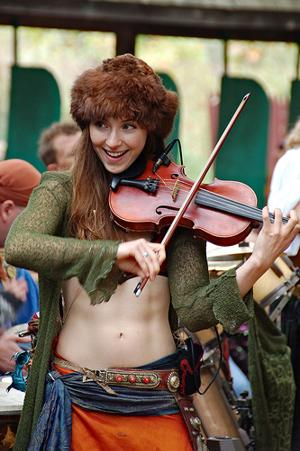person: (5, 54, 300, 451)
